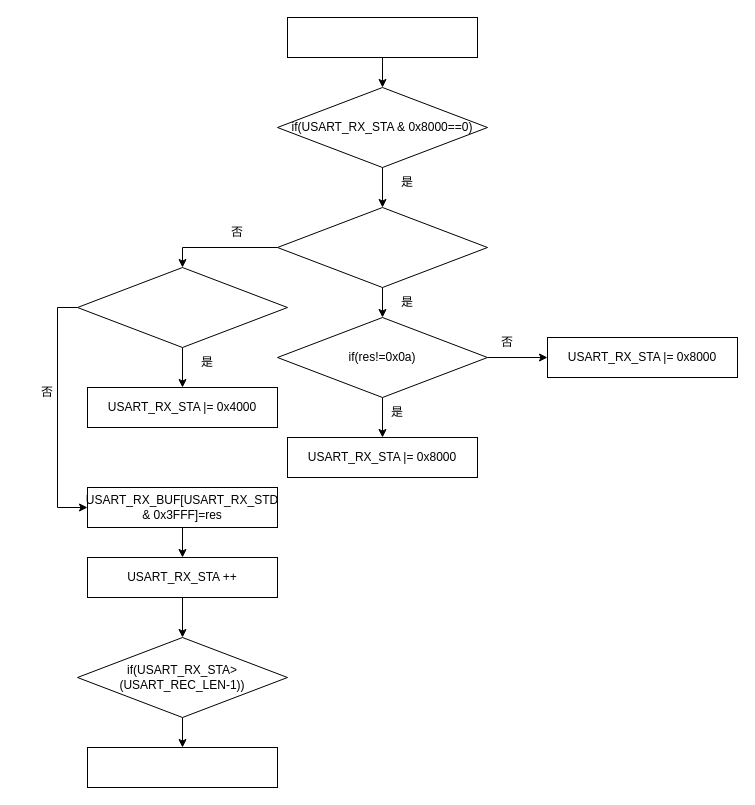
Image size: 755x805. Some labels were removed from this diagram. The centre of each missing label's shape, as x and y in pixels:
if(res==0x0d): the point at 182,307
if(USART_RX_STA & 0x4000): the point at 382,247
USART_RX_STA=0: the point at 182,767
void UART1_IRQHandler(u8 res): the point at 382,37
